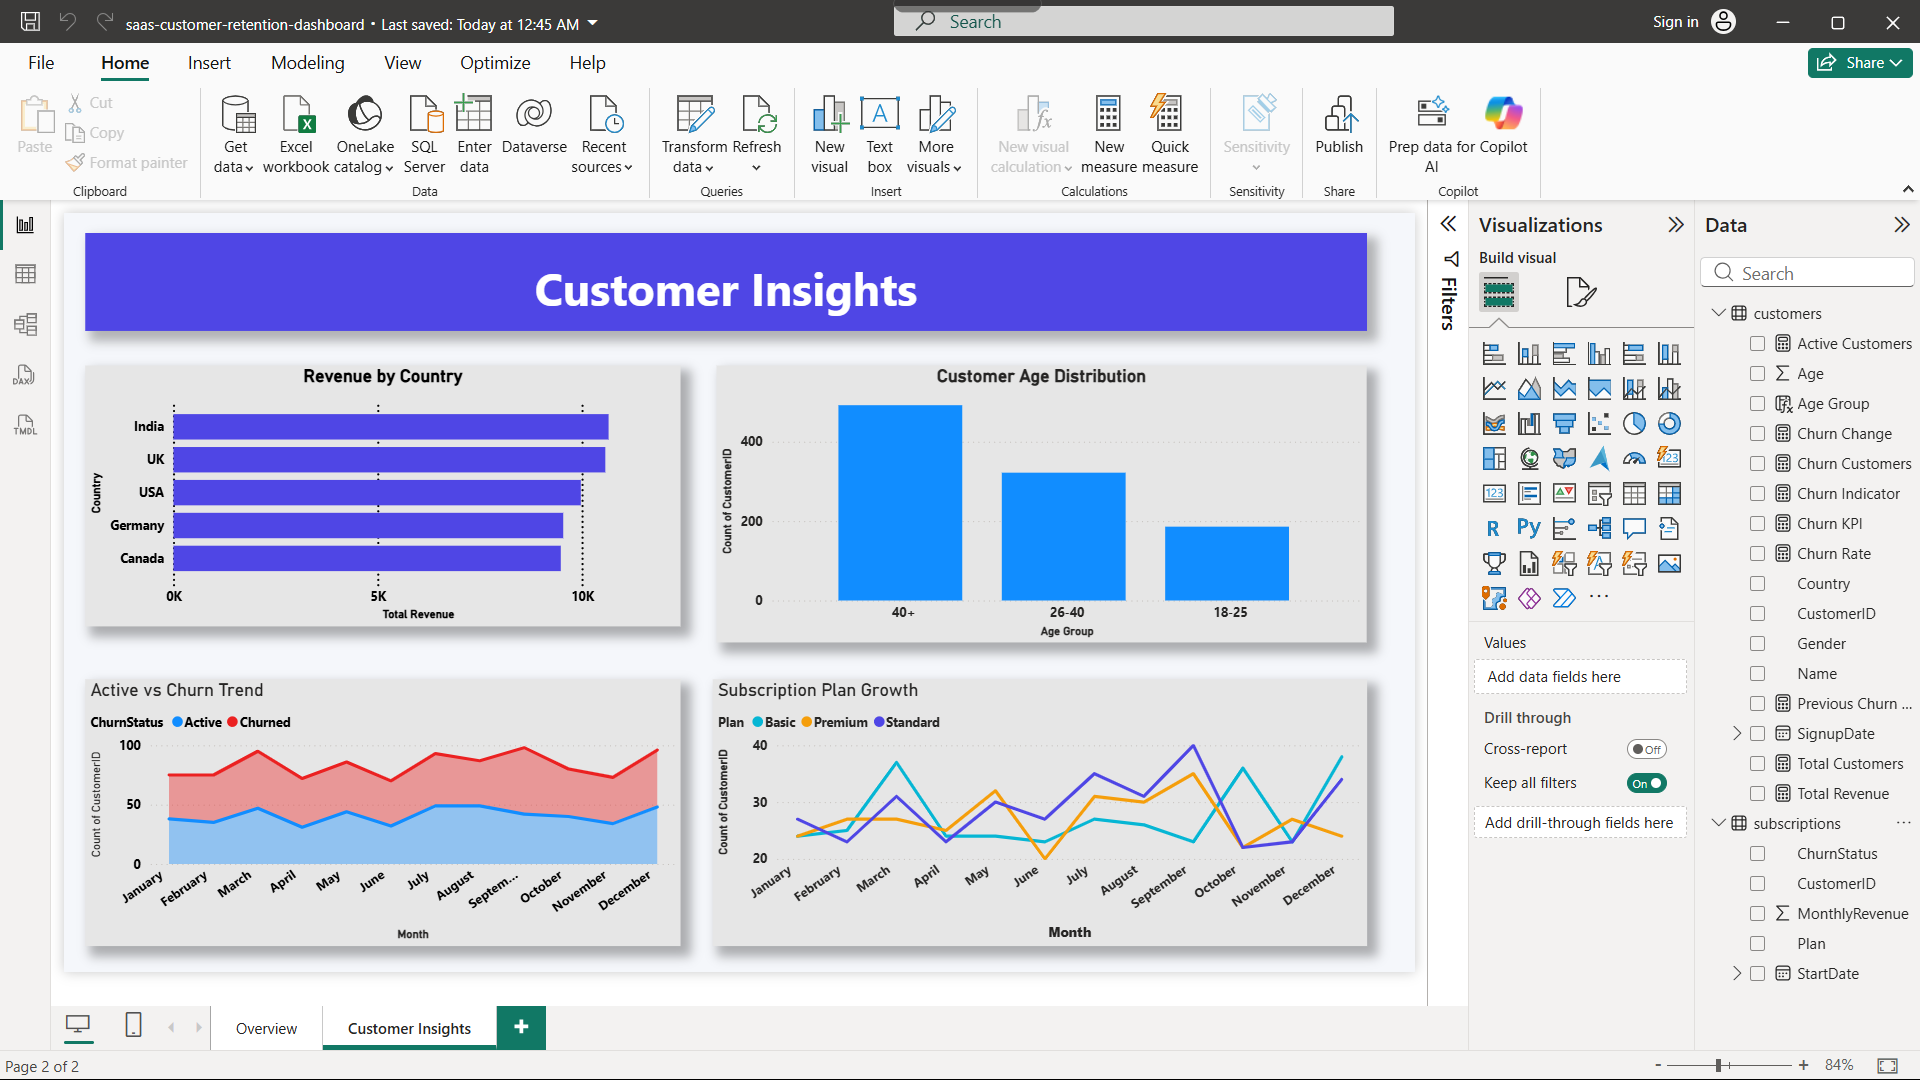

The page's visual inventory and layout, read from the dashboard file:
{"tool":"powerbi","page":{"name":"Customer Insights","canvas":[1280,720],"ordinal":1},"visuals":[{"type":"barChart","title":"Revenue by Country","fields":{"Category":["customers.Country"],"Y":["customers.Total Revenue"]},"box":[20,144.3,564.3,247.1],"z":0},{"type":"columnChart","title":"Customer Age Distribution","fields":{"Category":["customers.Age Group"],"Y":["CountNonNull(customers.CustomerID)"]},"box":[618,144.8,616.1,262.6],"z":1000},{"type":"lineChart","title":"Subscription Plan Growth","fields":{"Series":["subscriptions.Plan"],"Category":["subscriptions.StartDate.Variation.Date Hierarchy.Month"],"Y":["CountNonNull(subscriptions.CustomerID)"]},"box":[614.1,442.2,619.9,253],"z":2000},{"type":"textbox","box":[20,18.6,1214.3,92.9],"z":3000},{"type":"stackedAreaChart","title":"Active vs Churn Trend","fields":{"Y":["CountNonNull(customers.CustomerID)"],"Series":["subscriptions.ChurnStatus"],"Category":["subscriptions.StartDate.Variation.Date Hierarchy.Month"]},"box":[20,442,564,253],"z":4000}]}

Visuals, with their boxes on the page's 1280x720 design canvas (x1, y1, x2, y2). These are canvas units, not pixel positions in the 1920x1080 screenshot, which may show the page scaled, cropped or inside an application window:
"Revenue by Country" barChart: [20, 144, 584, 391]
"Customer Age Distribution" columnChart: [618, 145, 1234, 407]
"Subscription Plan Growth" lineChart: [614, 442, 1234, 695]
textbox: [20, 19, 1234, 112]
"Active vs Churn Trend" stackedAreaChart: [20, 442, 584, 695]
